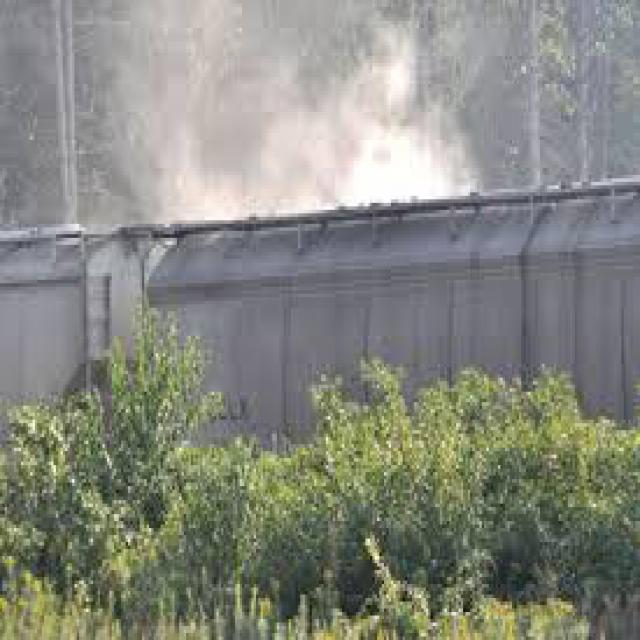Smoke: (64, 46, 502, 202)
